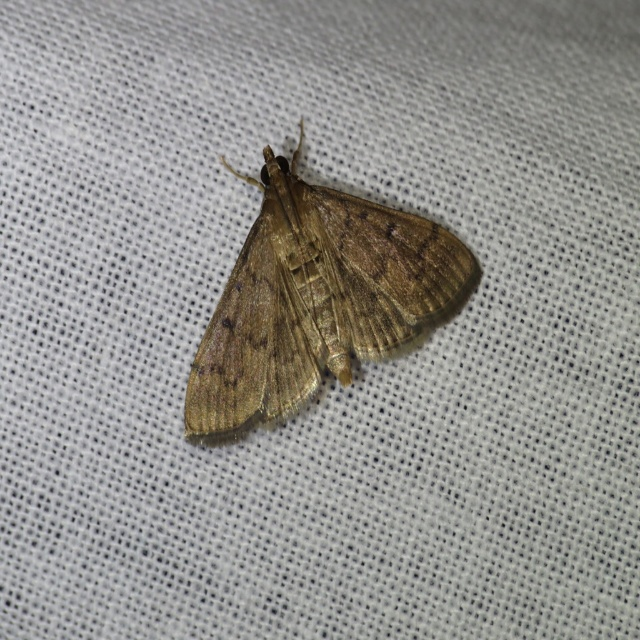Butterfly: (182, 112, 468, 451)
